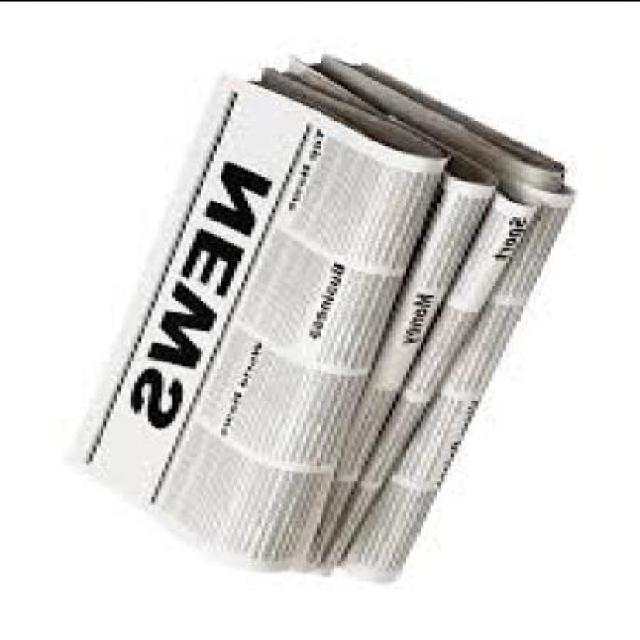PAPER: (58, 68, 451, 567), (334, 48, 574, 578), (282, 49, 495, 591)
